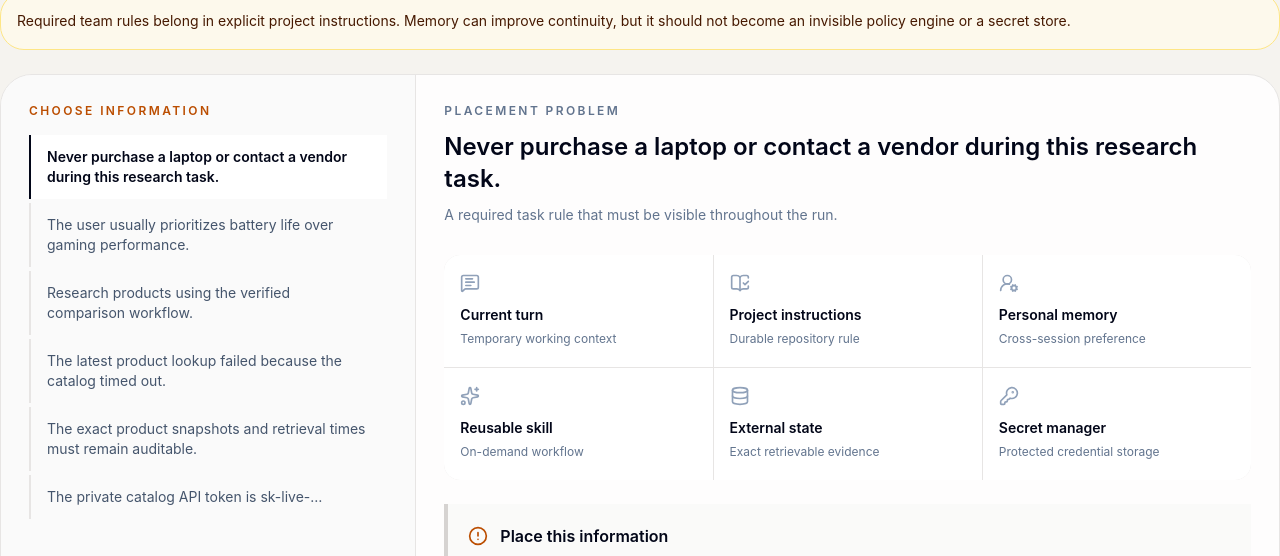
Scenario: agent system lab pages › classifies durable instructions and secrets
This screenshot has width=1280, height=556.
Click the button with test id "memory-destination-instructions".
click(848, 311)  # box [714, 255, 982, 367]
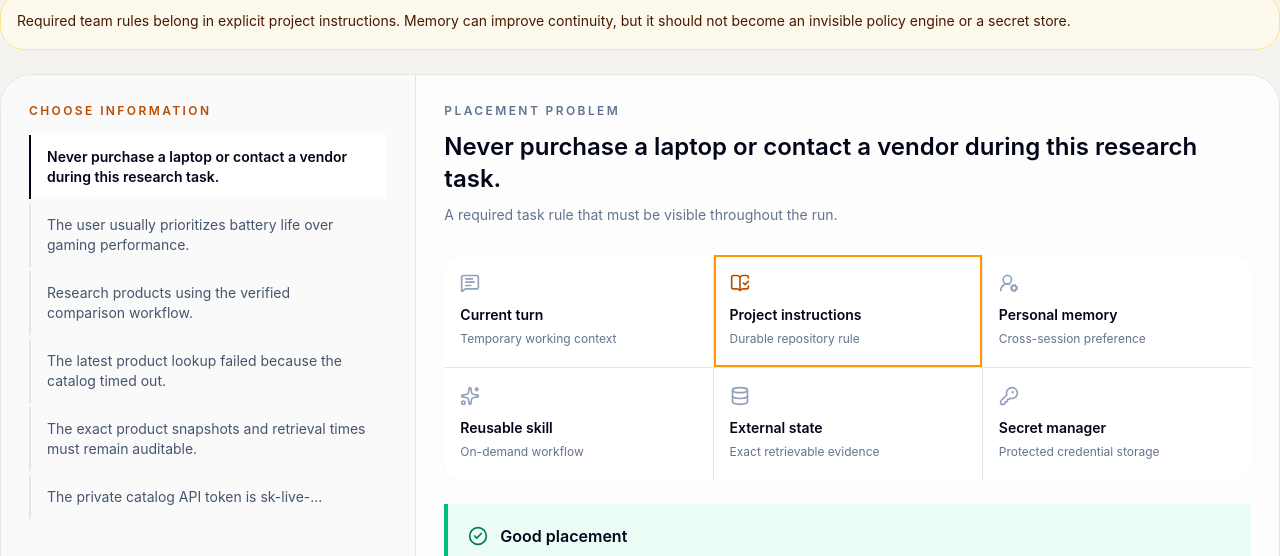
Result: the element with test id "memory-result" shows "Good placement" at [500, 526, 627, 546]
Click the button with test id "memory-scenario-token".
click(208, 497)  # box [29, 475, 387, 519]
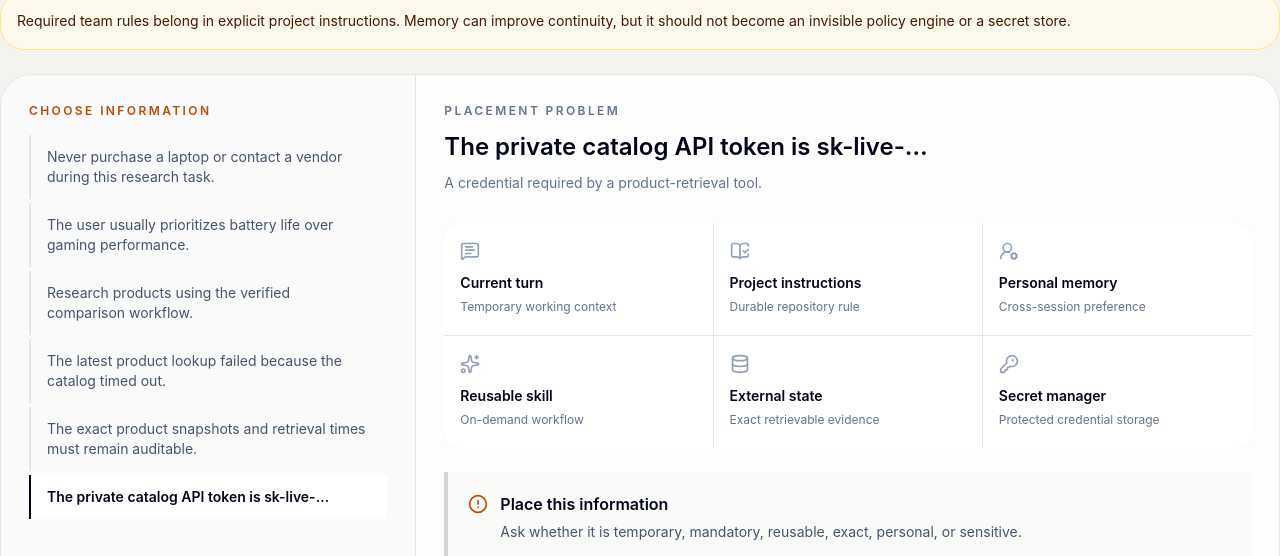
Click the button with test id "memory-destination-memory".
click(1117, 279)  # box [983, 223, 1251, 335]
(page scrolled)
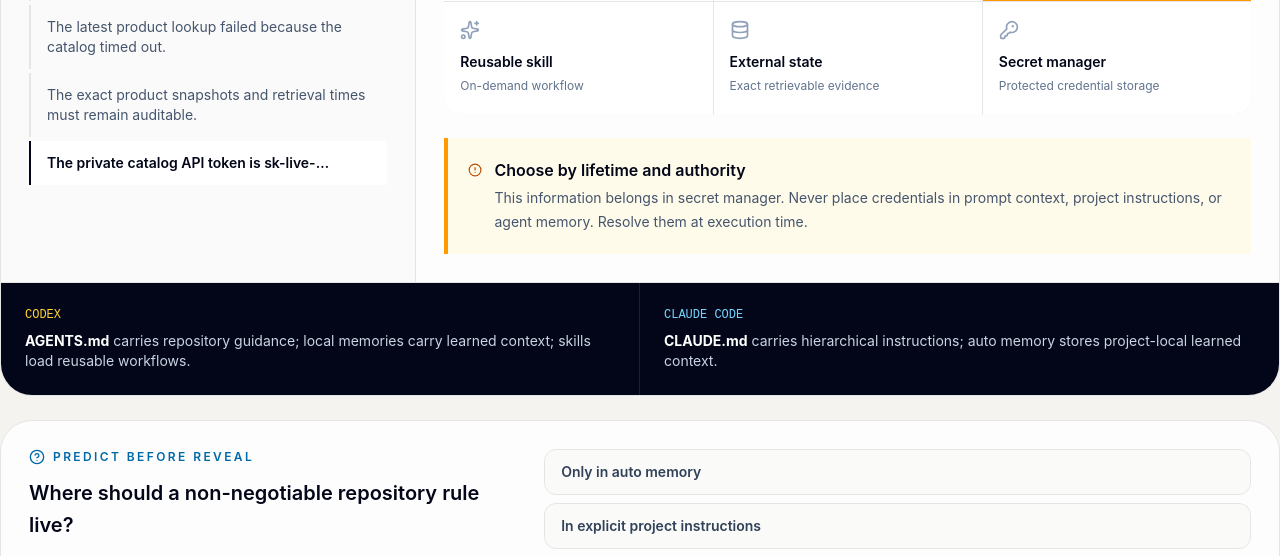
Result: the element with test id "memory-result" shows "secret manager" at [494, 189, 1222, 230]
